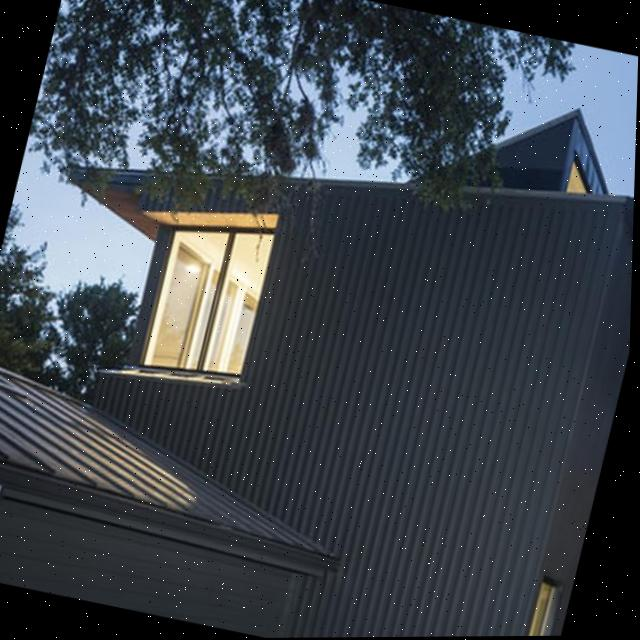building: (0, 0, 640, 640), (0, 347, 376, 640)
